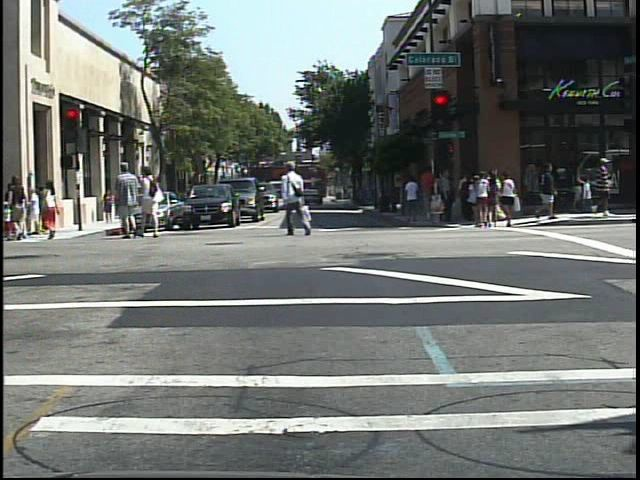person: (276, 156, 309, 241), (586, 156, 620, 220), (7, 171, 33, 246), (113, 161, 138, 239), (39, 175, 66, 244), (140, 164, 162, 238), (469, 175, 485, 232)
